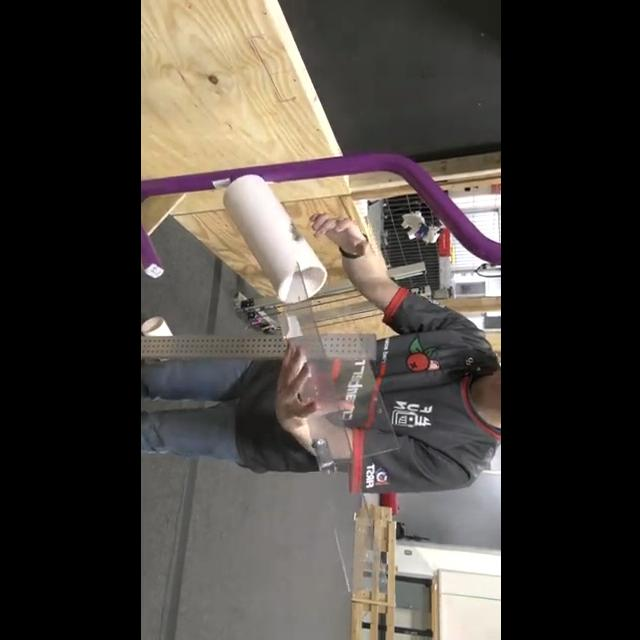CORAL: (222, 174, 328, 304)
